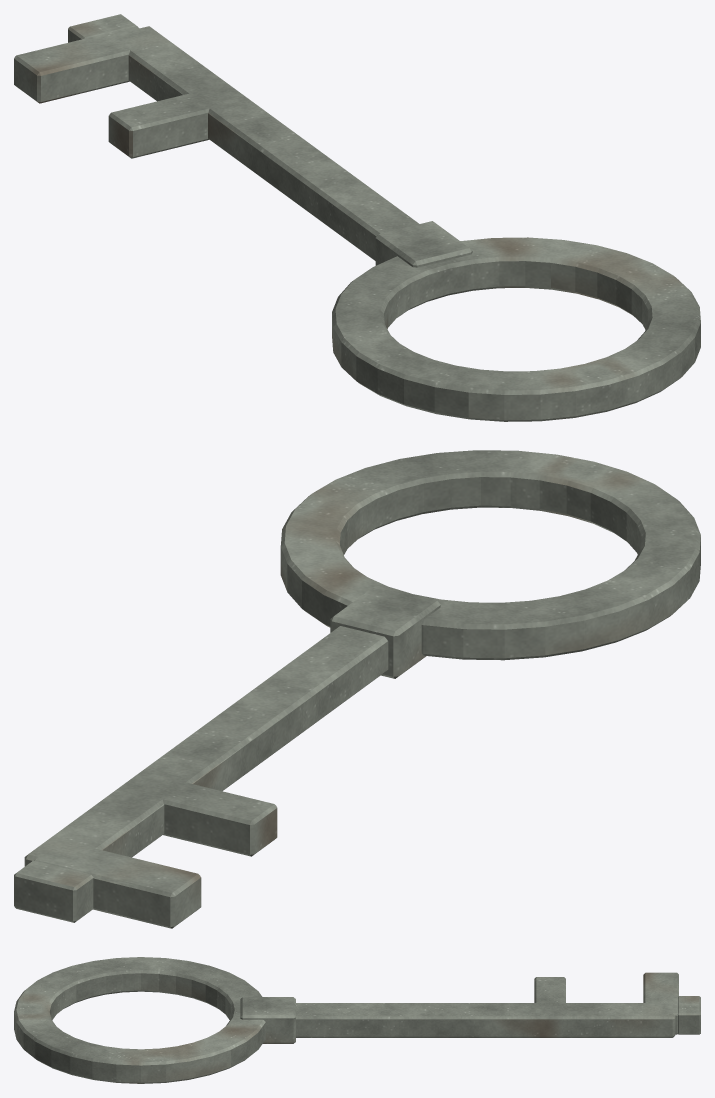
File: SilverKey.fbx
3 views of the same model, one above another, from view 1: azimuth 30°, elevation 25°; view 2: azimuth 150°, elevation 25°; view 3: azimuth 270°, elevation 25° (orthographic). The views are drawn at different scales.
Parts seen in each view (by area): view 1: SilverKey_00_Faceted circular key bow; view 2: SilverKey_00_Faceted circular key bow; view 3: SilverKey_00_Faceted circular key bow.
Part boxes in pixels (x1,y1,x2,y2): SilverKey_00_Faceted circular key bow: (14, 14, 700, 421); SilverKey_00_Faceted circular key bow: (14, 450, 700, 928); SilverKey_00_Faceted circular key bow: (14, 957, 700, 1083).
Bounding box in the file's own units: 6.4 × 0.8 × 17.3.
